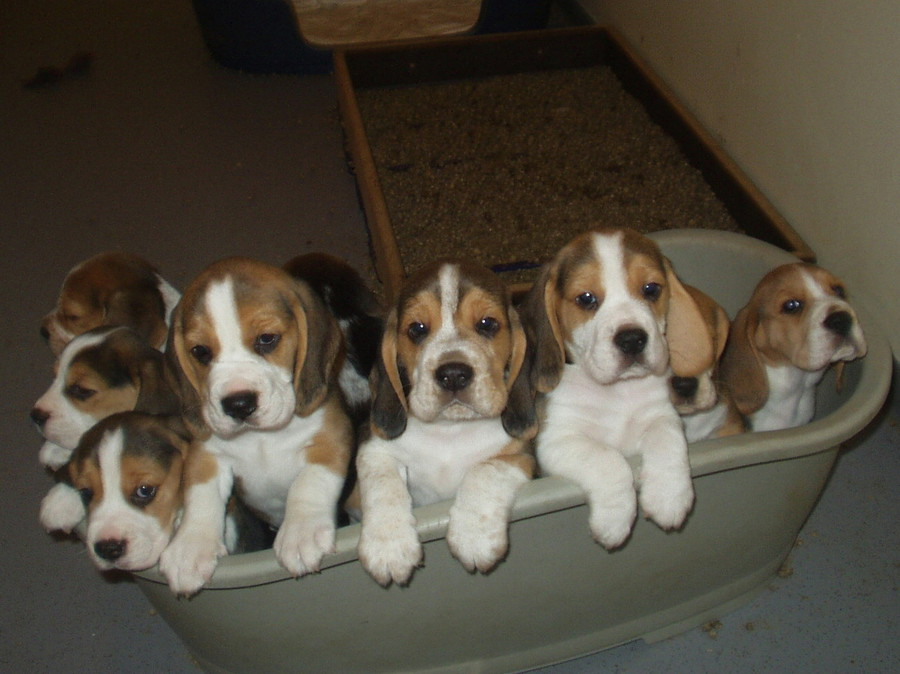dog: (42, 227, 888, 581)
